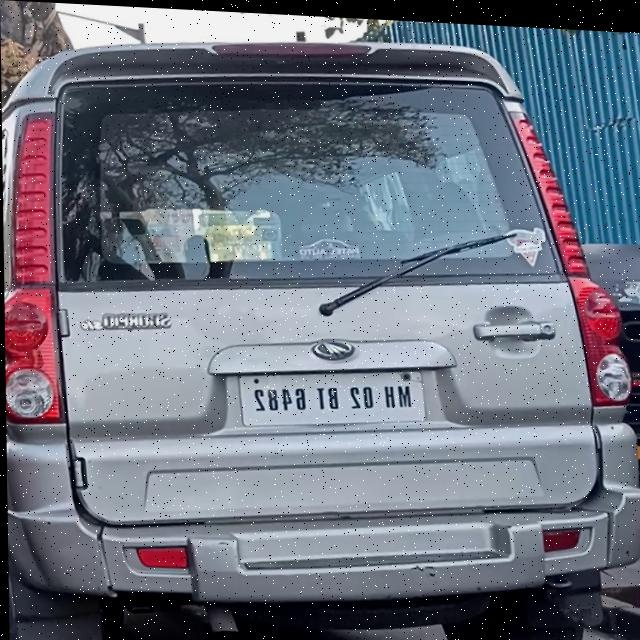plate: (235, 360, 425, 430)
